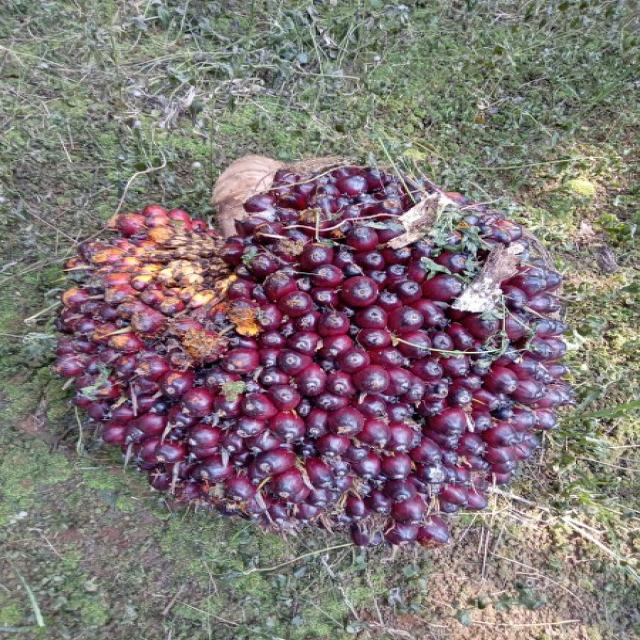fraksi 1: (42, 144, 608, 566)
